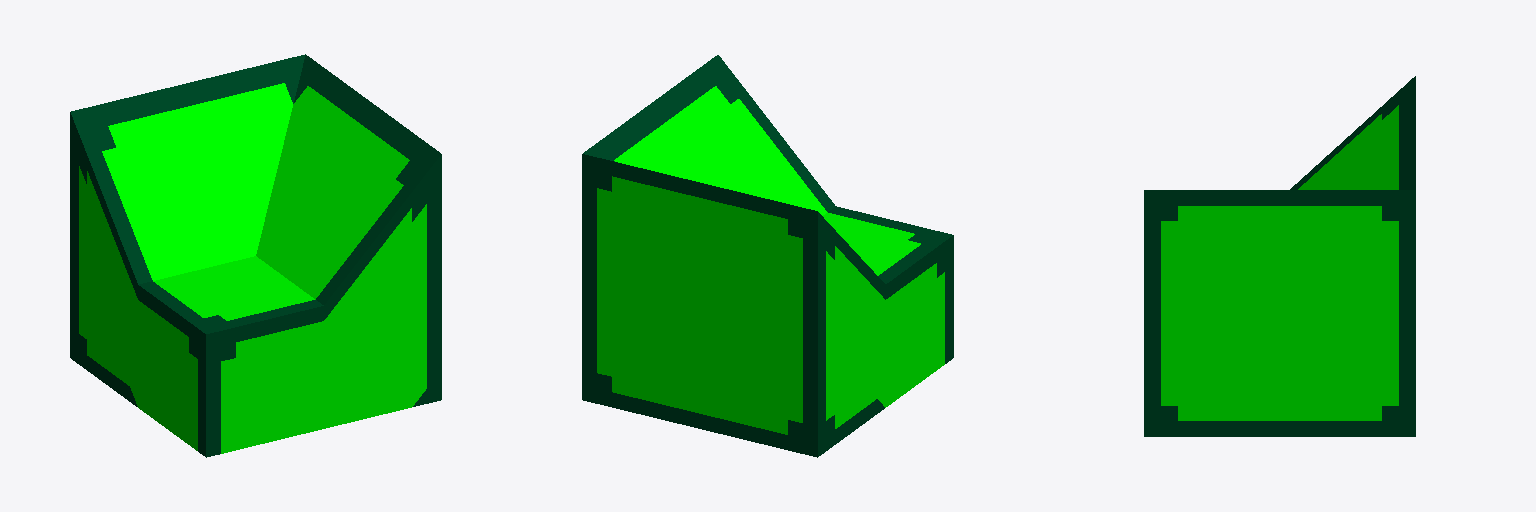
3 renders of one model, left to right at view 1: azimuth 30°, elevation 25°; view 2: azimuth 150°, elevation 25°; view 3: azimuth 270°, elevation 25°, orthographic.
Parts seen in each view (by area): view 1: 8_green; view 2: 8_green; view 3: 8_green.
Boxes of the visible parts, x1,y1,x2,y2 form: 8_green: [70, 54, 441, 457]; 8_green: [582, 55, 953, 457]; 8_green: [1144, 76, 1415, 436].
Bounding box in the file's own units: 1 × 1 × 1.
1 materials, 1 textured.